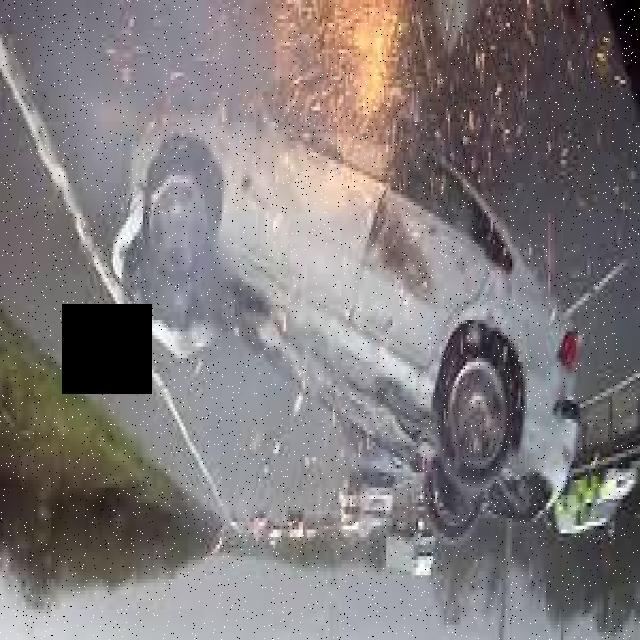severe: (107, 93, 582, 547)
